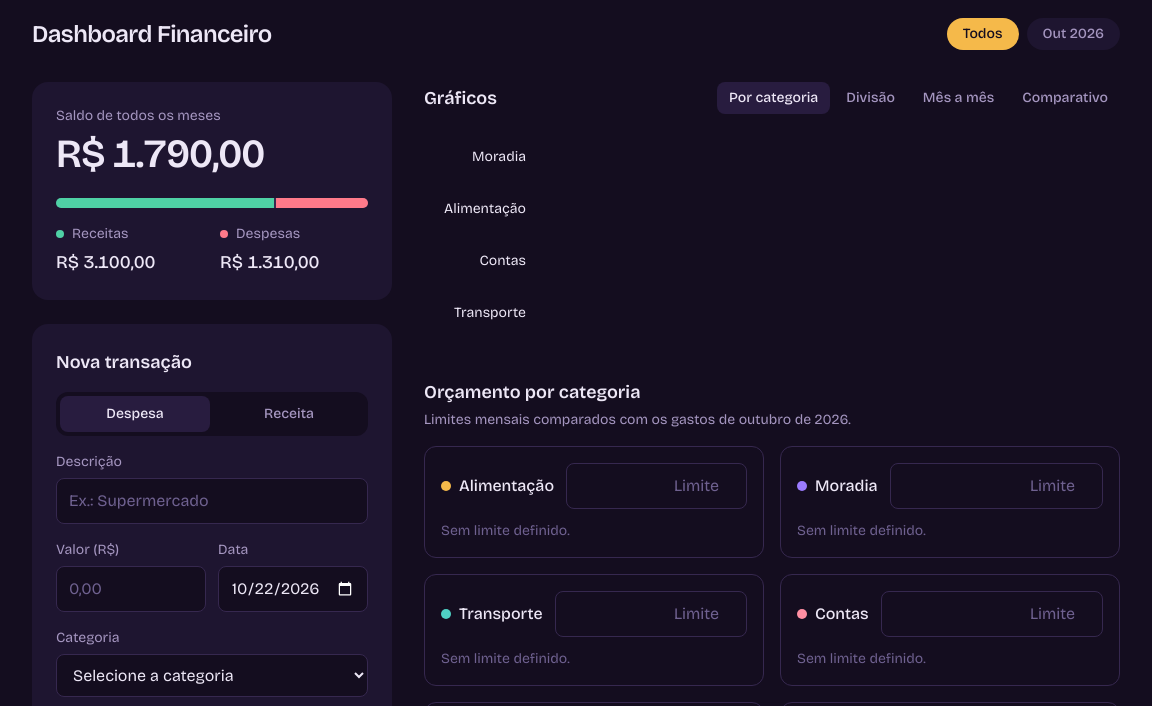
Scenario: Dashboard › adiciona uma transação, atualiza o saldo e salva no navegador
This screenshot has width=1152, height=706.
Step 1. Type "Café" into the field labelled "Descrição" → (212,501), box x1=56 y1=478 x2=368 y2=524
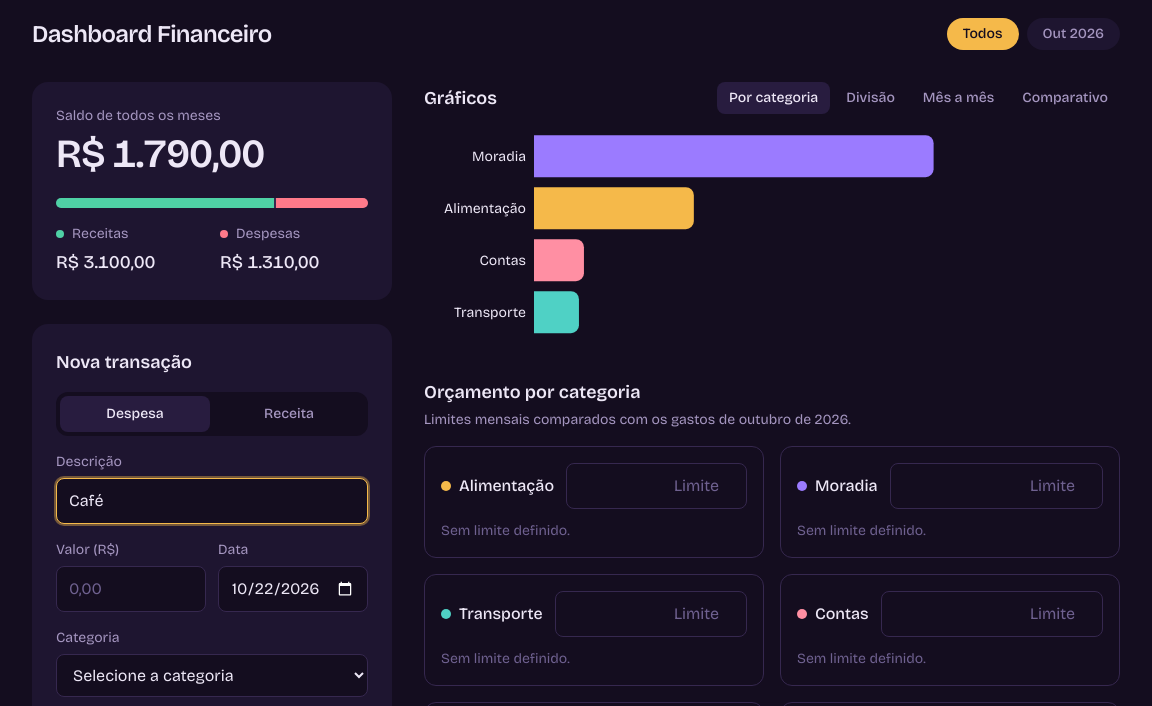
Step 2. Type "15" into the number field labelled "Valor (R$)" → (131,589), box x1=56 y1=566 x2=206 y2=612
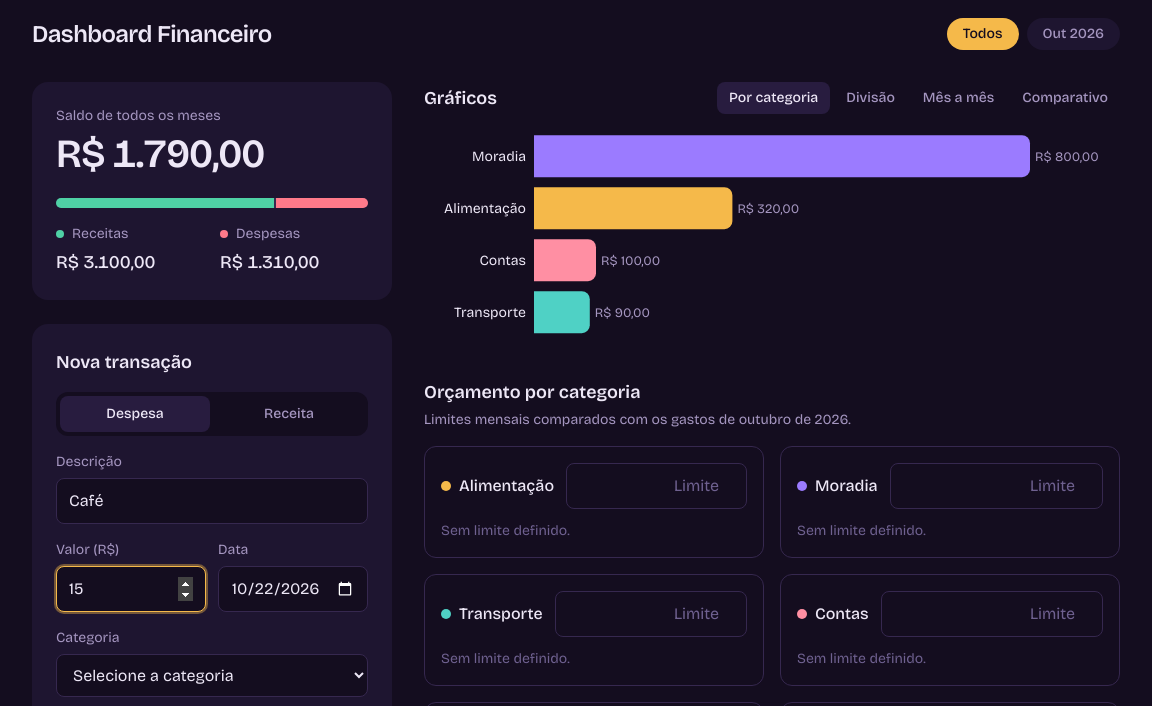
Step 3. Select "Alimentação" in the dropdown labelled "Categoria" → (212,676), box x1=56 y1=654 x2=368 y2=697
(page scrolled)
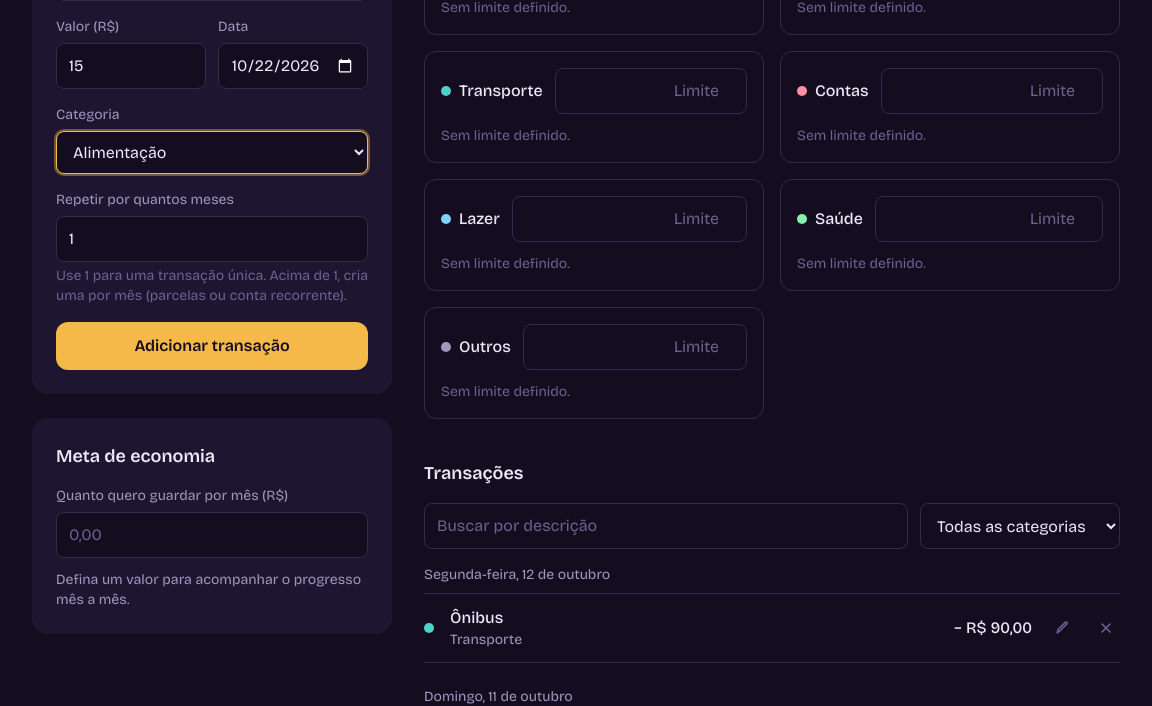
Step 4. Click the button "Adicionar transação" → (212,346), box x1=56 y1=322 x2=368 y2=370
(page scrolled)
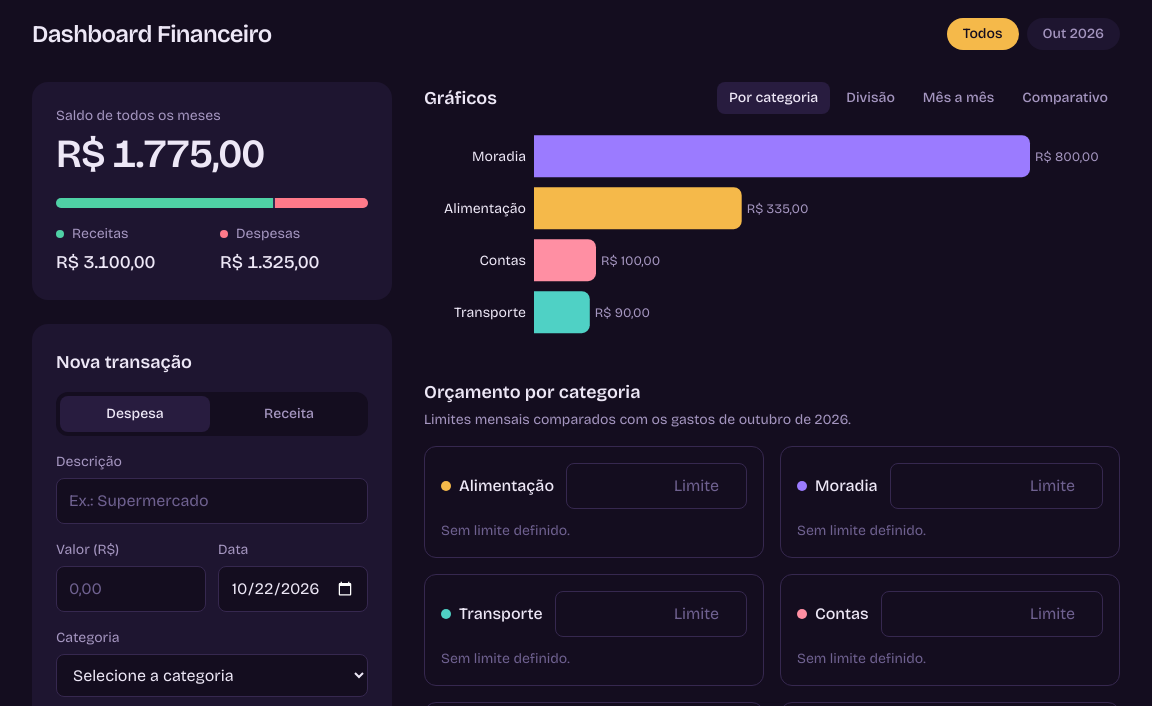
Now the text "R$ 1.775,00" is shown, box x1=56 y1=130 x2=264 y2=178
